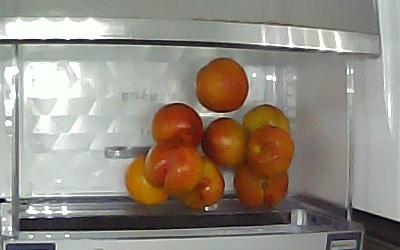prune: (145, 142, 205, 194), (196, 58, 248, 112), (151, 102, 203, 154), (234, 163, 288, 209), (246, 127, 294, 176), (179, 157, 225, 208), (125, 153, 170, 205), (204, 118, 248, 168), (242, 104, 288, 133)
